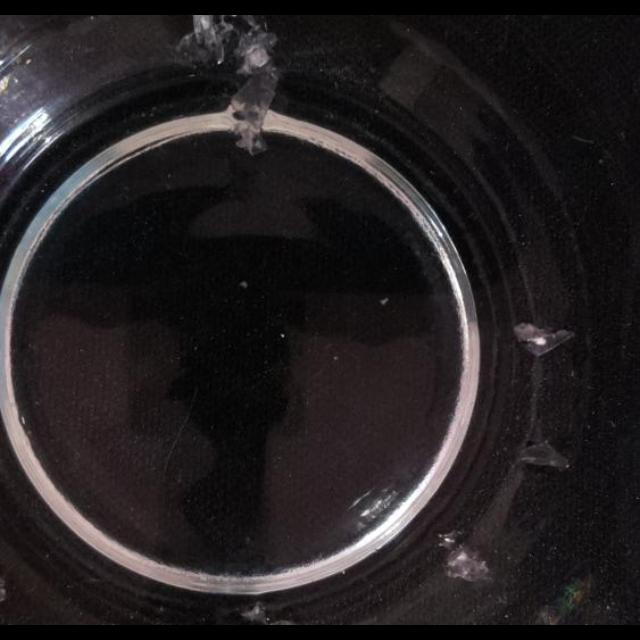Fibre: (175, 17, 281, 154), (512, 322, 574, 356), (444, 546, 494, 584), (516, 440, 570, 470), (240, 602, 268, 624)
microbeads: (379, 296, 389, 306)
